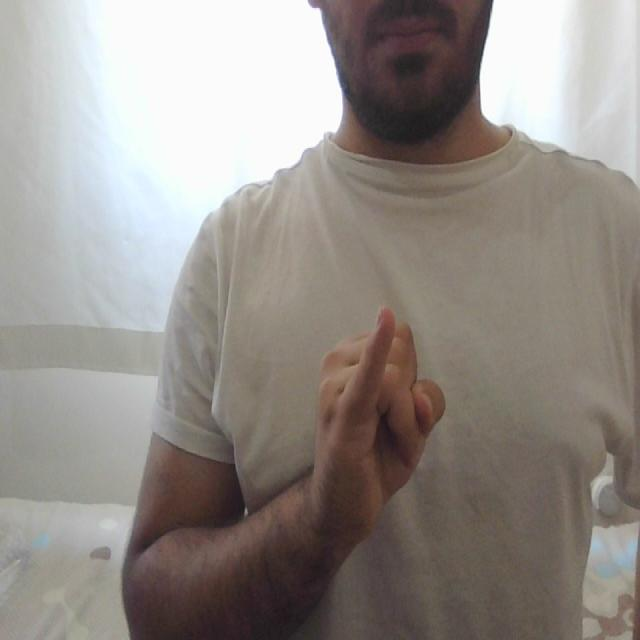kotu: (307, 293, 454, 486)
